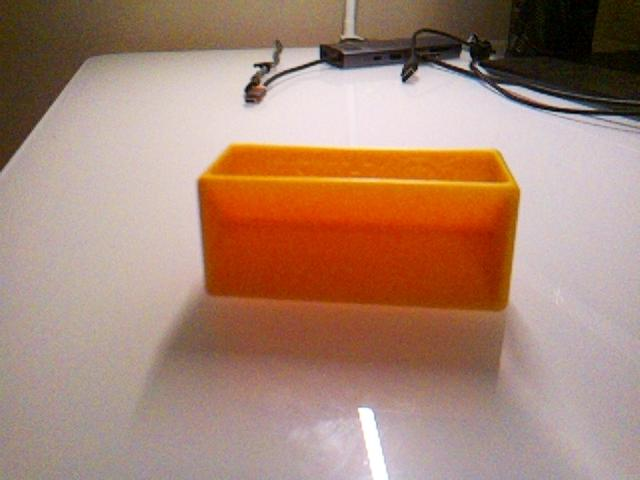yellow: (197, 141, 522, 313)
